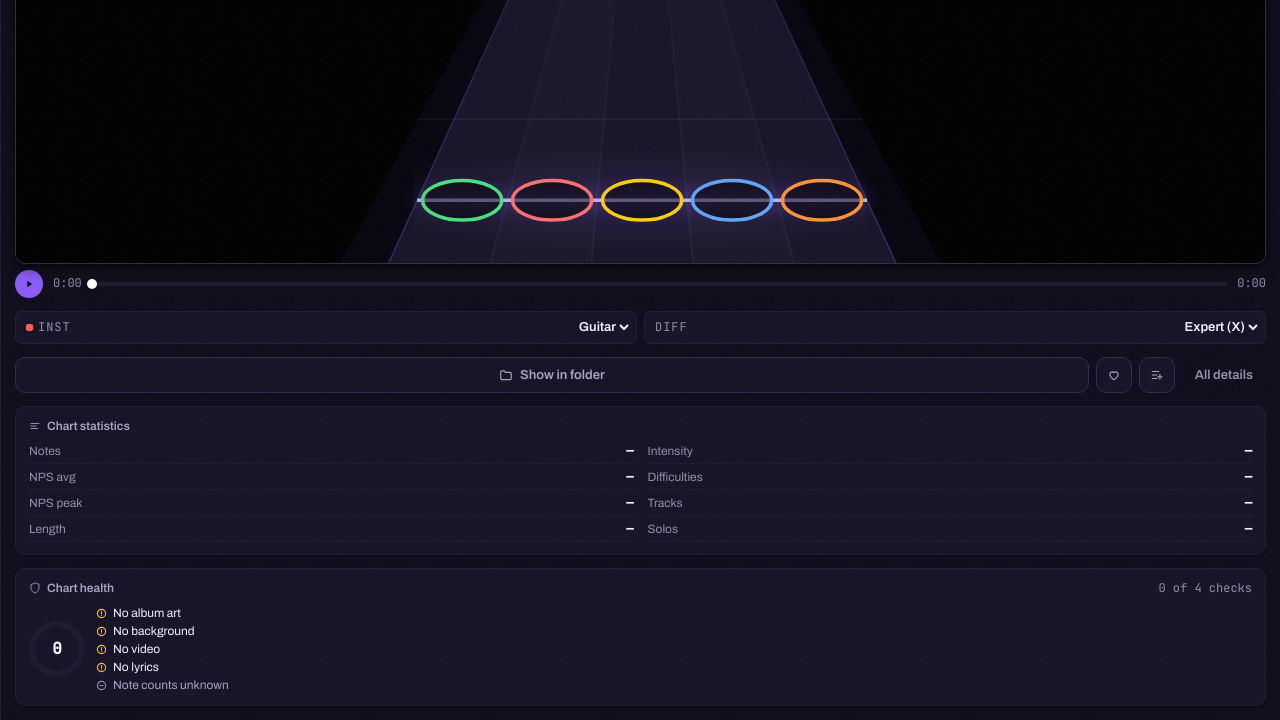
Test case: Rail: the actions a chart can actually answer › says why a reveal was refused
(page scrolled)
Click the button "Show in folder" at (552, 375), box [15, 357, 1089, 393]
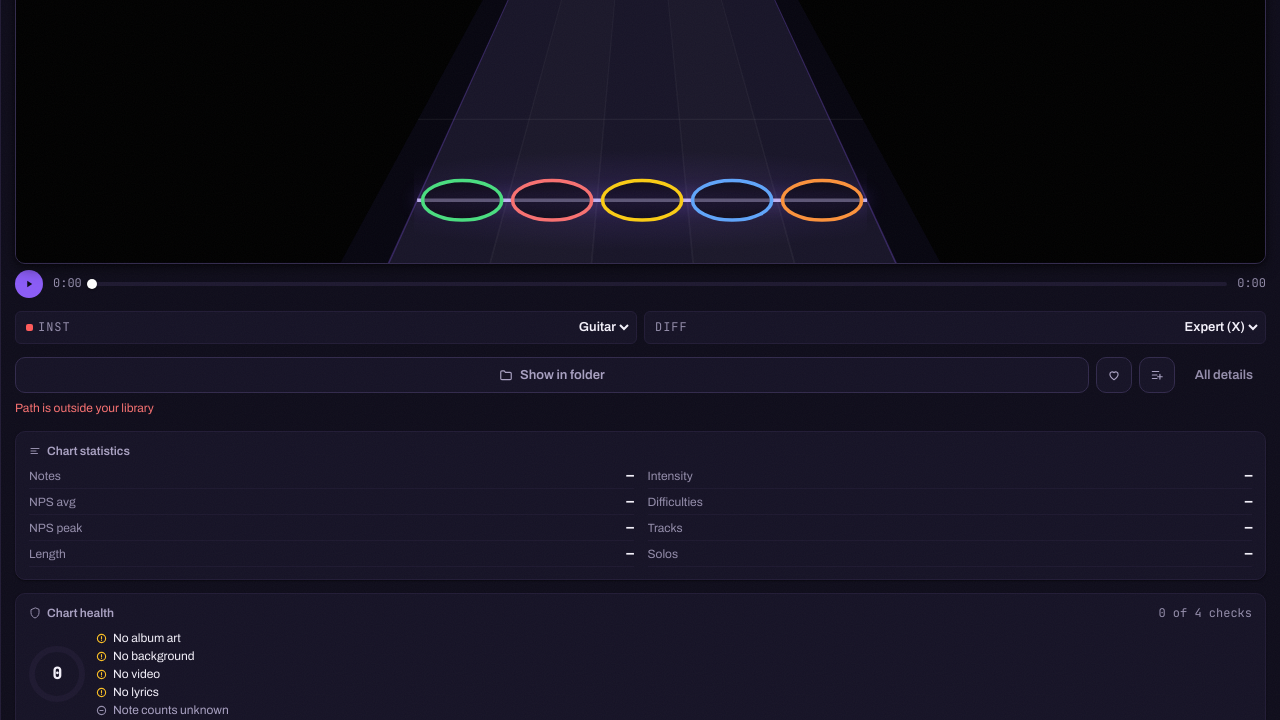
Expected: the message reads "Path is outside your library", [15, 401, 154, 415]
